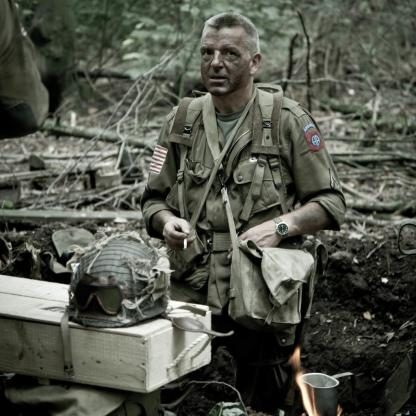Helmet: (67, 244, 173, 327)
